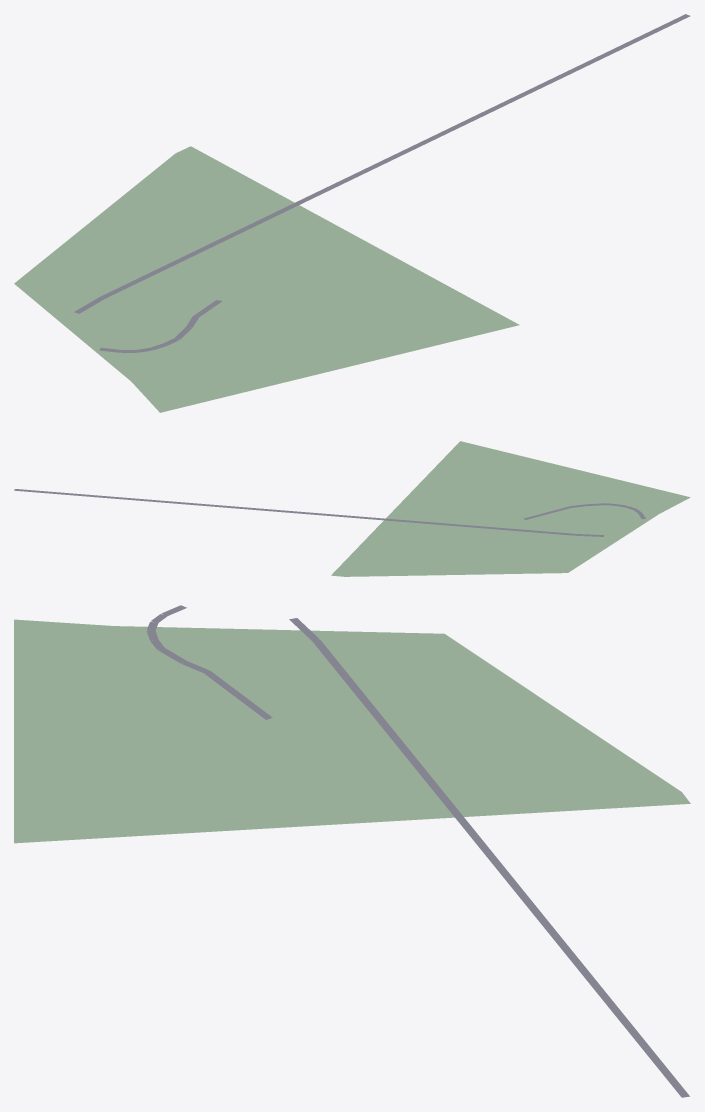
The model's file is 113_81_mid.glb.
The picture shows the model from 3 angles, top to bottom: view 1: azimuth 30°, elevation 25°; view 2: azimuth 150°, elevation 25°; view 3: azimuth 270°, elevation 25°; orthographic projection. The views are drawn at different scales.
Bounding box in the file's own units: 391 × 6.35 × 227.
